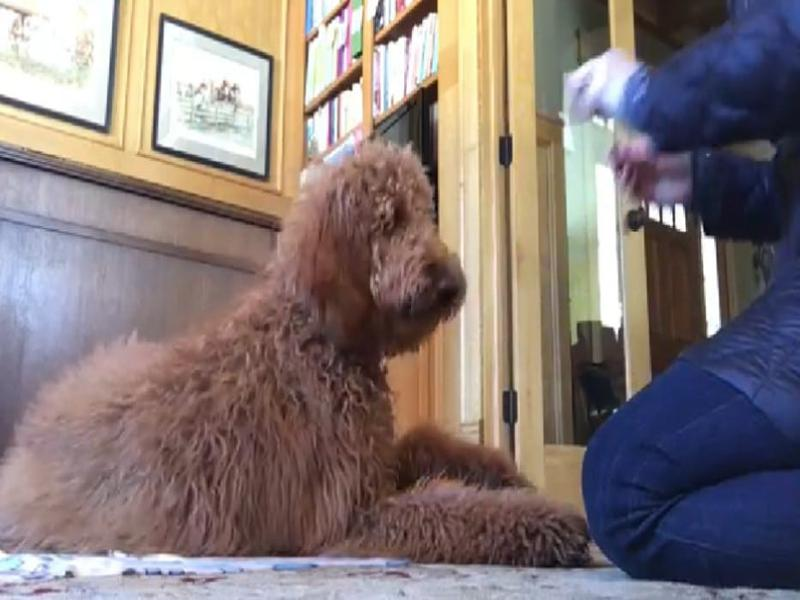dog_down: (1, 134, 592, 572)
